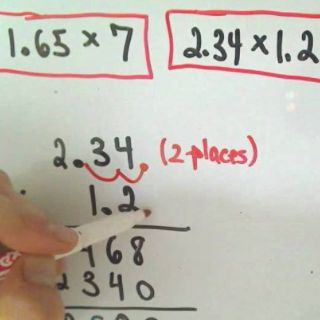.: (19, 42, 30, 56), (72, 156, 83, 169), (283, 51, 292, 64), (200, 47, 209, 58)
1: (6, 24, 18, 59), (274, 27, 284, 64)
2: (296, 29, 320, 65), (182, 25, 203, 59), (51, 136, 69, 171)
3: (88, 135, 111, 168), (211, 27, 228, 62)
4: (113, 135, 136, 171), (227, 28, 245, 66)
5: (51, 25, 71, 59)
6: (33, 26, 51, 59)
7: (109, 21, 133, 63)
